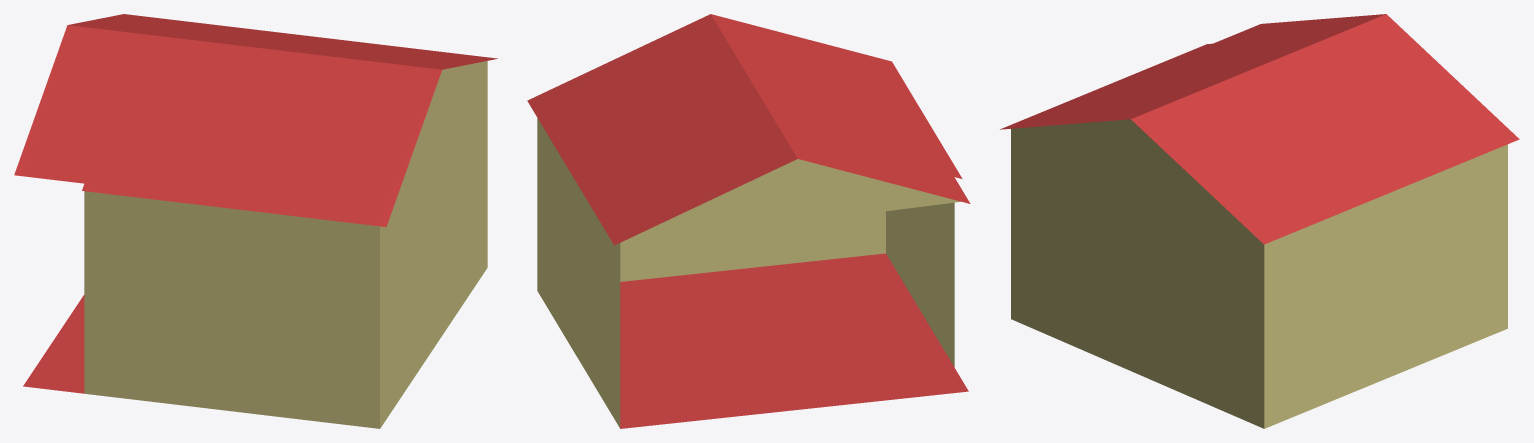
The picture shows the model from 3 angles, left to right: view 1: azimuth 30°, elevation 25°; view 2: azimuth 150°, elevation 25°; view 3: azimuth 270°, elevation 25°; orthographic projection. The views are drawn at different scales.
Bounding box in the file's own units: 15.28 × 15.46 × 8.41.
